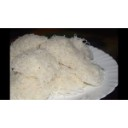idiyappam: (13, 53, 71, 99), (47, 34, 92, 68), (12, 34, 55, 58), (76, 62, 107, 87)
